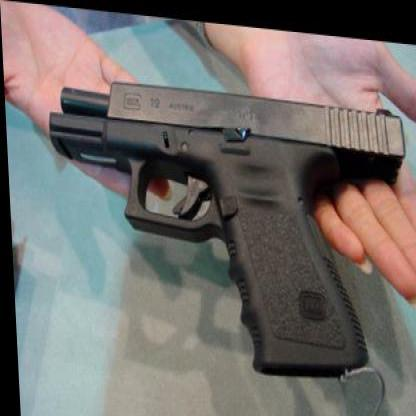pistol: (42, 65, 410, 383)
